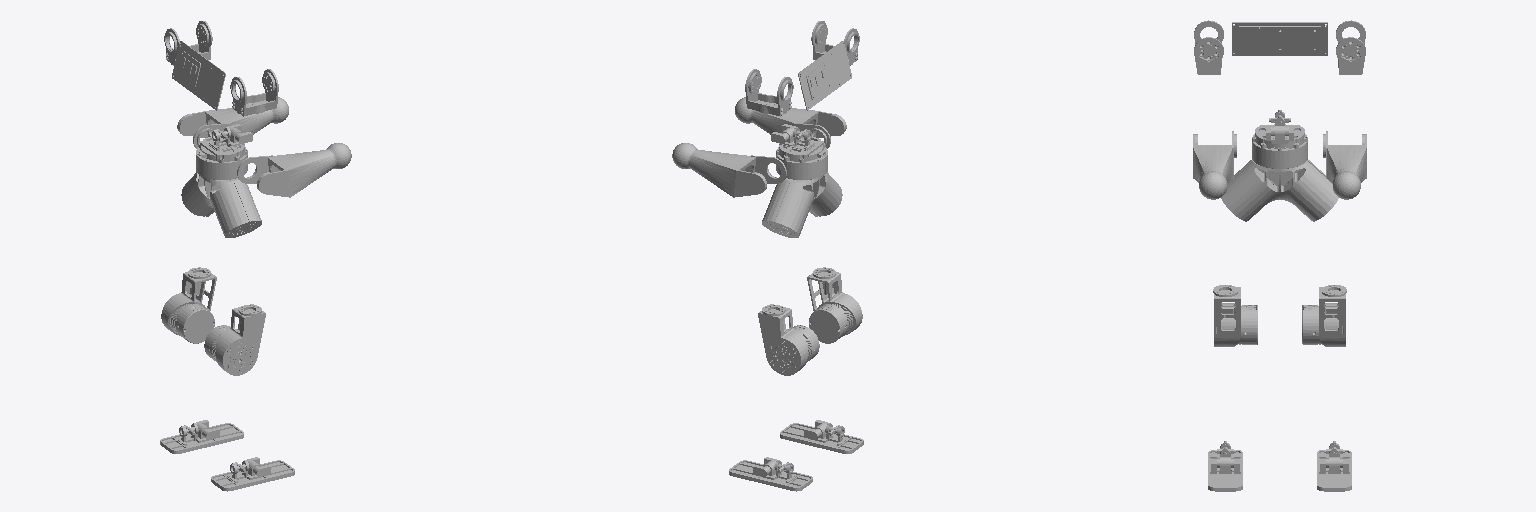
--- Facts derived from the render (not from the file) ---
The picture shows the robot from 3 angles, left to right: view 1: azimuth 30°, elevation 25°; view 2: azimuth 150°, elevation 25°; view 3: azimuth 270°, elevation 25°; orthographic projection.
Robot: h780a_asm.SLDASM — 27 links, 26 joints (23 revolute, 2 fixed, 1 floating); root link world; default pose: all joints at 0.
Links seen in each view (by area): view 1: right_elbow_pitch_link, base_link, right_hip_yaw_link, left_hip_yaw_link, waist_yaw_link, left_elbow_pitch_link, imu_link, left_ankle_roll_link, right_ankle_roll_link, right_shoulder_roll_link, left_shoulder_roll_link; view 2: left_elbow_pitch_link, base_link, left_hip_yaw_link, right_hip_yaw_link, waist_yaw_link, right_elbow_pitch_link, imu_link, right_ankle_roll_link, left_ankle_roll_link, left_shoulder_roll_link, right_shoulder_roll_link; view 3: base_link, imu_link, waist_yaw_link, right_hip_yaw_link, left_hip_yaw_link, left_elbow_pitch_link, right_elbow_pitch_link, left_ankle_roll_link, right_ankle_roll_link, left_shoulder_roll_link, right_shoulder_roll_link.
Link boxes in pixels (box(x1,y1,x2,y2)): right_elbow_pitch_link: box(237, 143, 351, 197); base_link: box(181, 172, 261, 237); right_hip_yaw_link: box(204, 304, 265, 375); left_hip_yaw_link: box(161, 267, 216, 343); waist_yaw_link: box(196, 124, 252, 179); left_elbow_pitch_link: box(177, 97, 288, 148); imu_link: box(172, 41, 225, 110); left_ankle_roll_link: box(160, 420, 243, 453); right_ankle_roll_link: box(211, 457, 294, 491); right_shoulder_roll_link: box(230, 69, 278, 116); left_shoulder_roll_link: box(164, 21, 212, 65); left_elbow_pitch_link: box(672, 143, 786, 197); base_link: box(762, 172, 842, 237); left_hip_yaw_link: box(758, 304, 819, 375); right_hip_yaw_link: box(807, 267, 862, 343); waist_yaw_link: box(771, 124, 827, 179); right_elbow_pitch_link: box(735, 97, 846, 148); imu_link: box(798, 41, 851, 110); right_ankle_roll_link: box(780, 420, 863, 453); left_ankle_roll_link: box(729, 457, 812, 491); left_shoulder_roll_link: box(745, 69, 793, 116); right_shoulder_roll_link: box(811, 21, 859, 65); base_link: box(1221, 160, 1338, 221); imu_link: box(1232, 22, 1327, 55); waist_yaw_link: box(1252, 110, 1307, 168); right_hip_yaw_link: box(1213, 285, 1257, 346); left_hip_yaw_link: box(1302, 285, 1346, 346); left_elbow_pitch_link: box(1323, 131, 1366, 199); right_elbow_pitch_link: box(1193, 131, 1236, 199); left_ankle_roll_link: box(1317, 441, 1351, 491); right_ankle_roll_link: box(1208, 441, 1242, 491); left_shoulder_roll_link: box(1336, 20, 1365, 74); right_shoulder_roll_link: box(1194, 20, 1223, 74).
Size in the robot's own frame: 0.2196 by 0.244 by 0.678 metres.
Meshes: 26 distinct files referenced, 14 mesh visuals loaded (14 binary STL); not drawn: 12 (reference not matched to a file when rendering).

The robot description file, URDF, robot "h780a_asm.SLDASM":
<?xml version="1.0" encoding="utf-8"?>
<!-- This URDF was automatically created by SolidWorks to URDF Exporter! Originally created by Stephen Brawner ([email redacted]) 
     Commit Version: 1.6.0-4-g7f85cfe  Build Version: 1.6.7995.38578
     For more information, please see http://wiki.ros.org/sw_urdf_exporter -->
<robot
  name="h780a_asm.SLDASM">
  <mujoco>
    <compiler meshdir="meshes" discardvisual="false"/>
  </mujoco>

  <!-- [CAUTION] uncomment when convert to mujoco -->
  <link name="world"></link>
  <joint name="floating_base_joint" type="floating">
    <parent link="world"/>
    <child link="base_link"/>
  </joint>
  <link
    name="base_link">
    <inertial>
      <origin
        xyz="-0.000608839400159668 -2.48606142651706E-05 0.0185366559303592"
        rpy="0 0 0" />
      <mass
        value="1.01914368" />
      <inertia
        ixx="0.00255038"
        ixy="0.00000039"
        ixz="0.00001327"
        iyy="0.00071478"
        iyz="0.00000166"
        izz="0.00236144" />
    </inertial>
    <visual>
      <origin
        xyz="0 0 0"
        rpy="0 0 0" />
      <geometry>
        <mesh
          filename="meshes/base_link.STL" />
      </geometry>
      <material
        name="">
        <color
          rgba="0.752941176470588 0.752941176470588 0.752941176470588 1" />
      </material>
    </visual>
    <collision>
      <origin
        xyz="0 0 0"
        rpy="0 0 0" />
      <geometry>
        <mesh
          filename="meshes/base_link.STL" />
      </geometry>
    </collision>
  </link>
  <link
    name="left_hip_pitch_link">
    <inertial>
      <origin
        xyz="-0.00367018673699777 0.0303085638249689 -0.014826132332809"
        rpy="0 0 0" />
      <mass
        value="0.37173446" />
      <inertia
        ixx="0.00022549"
        ixy="-0.00000031"
        ixz="-0.00000415"
        iyy="0.00023463"
        iyz="0.00000067"
        izz="0.00022051" />
    </inertial>
    <visual>
      <origin
        xyz="0 0 0"
        rpy="0 0 0" />
      <geometry>
        <mesh
          filename="meshes/left_hip_pitch_link.STL" />
      </geometry>
      <material
        name="">
        <color
          rgba="0.752941176470588 0.752941176470588 0.752941176470588 1" />
      </material>
    </visual>
    <collision>
      <origin
        xyz="0 0 0"
        rpy="0 0 0" />
      <geometry>
        <mesh
          filename="meshes/left_hip_pitch_link.STL" />
      </geometry>
    </collision>
  </link>
  <joint
    name="left_hip_pitch_joint"
    type="revolute">
    <origin
      xyz="0 0.064627 -0.009421"
      rpy="-0.7854 0 0" />
    <parent
      link="base_link" />
    <child
      link="left_hip_pitch_link" />
    <axis
      xyz="0 1 0" />
    <limit
      lower="-2.5307"
      upper="2.8797"
      effort="34"
      velocity="8.6917" />
  </joint>
  <link
    name="left_hip_roll_link">
    <inertial>
      <origin
        xyz="-0.00102397487211744 0.00036482482680926 -0.0522763821229738"
        rpy="0 0 0" />
      <mass
        value="0.40622809" />
      <inertia
        ixx="0.00044245"
        ixy="0.00000046"
        ixz="-0.00005459"
        iyy="0.00045225"
        iyz="0.00000242"
        izz="0.00022192" />
    </inertial>
    <visual>
      <origin
        xyz="0 0 0"
        rpy="0 0 0" />
      <geometry>
        <mesh
          filename="meshes/left_hip_roll_link.STL" />
      </geometry>
      <material
        name="">
        <color
          rgba="0.752941176470588 0.752941176470588 0.752941176470588 1" />
      </material>
    </visual>
    <collision>
      <origin
        xyz="0 0 0"
        rpy="0 0 0" />
      <geometry>
        <mesh
          filename="meshes/left_hip_roll_link.STL" />
      </geometry>
    </collision>
  </link>
  <joint
    name="left_hip_roll_joint"
    type="revolute">
    <origin
      xyz="0.014 0.0325 -0.016417"
      rpy="0.7854 0 0" />
    <parent
      link="left_hip_pitch_link" />
    <child
      link="left_hip_roll_link" />
    <axis
      xyz="1 0 0" />
    <limit
      lower="-2.3561"
      upper="1.1344"
      effort="14"
      velocity="27.227" />
  </joint>
  <link
    name="left_hip_yaw_link">
    <inertial>
      <origin
        xyz="-0.0202458881888117 -0.00554365759553843 -0.0552408872968055"
        rpy="0 0 0" />
      <mass
        value="0.45505975" />
      <inertia
        ixx="0.00036750"
        ixy="-0.00001161"
        ixz="-0.00004387"
        iyy="0.00033281"
        iyz="-0.00001265"
        izz="0.00030134" />
    </inertial>
    <visual>
      <origin
        xyz="0 0 0"
        rpy="0 0 0" />
      <geometry>
        <mesh
          filename="meshes/left_hip_yaw_link.STL" />
      </geometry>
      <material
        name="">
        <color
          rgba="0.752941176470588 0.752941176470588 0.752941176470588 1" />
      </material>
    </visual>
    <collision>
      <origin
        xyz="0 0 0"
        rpy="0 0 0" />
      <geometry>
        <mesh
          filename="meshes/left_hip_yaw_link.STL" />
      </geometry>
    </collision>
  </link>
  <joint
    name="left_hip_yaw_joint"
    type="revolute">
    <origin
      xyz="-0.009 0 -0.094"
      rpy="0 0 0" />
    <parent
      link="left_hip_roll_link" />
    <child
      link="left_hip_yaw_link" />
    <axis
      xyz="0 0 1" />
    <limit
      lower="-2.7576"
      upper="2.7576"
      effort="14"
      velocity="27.2271" />
  </joint>
  <link
    name="left_knee_pitch_link">
    <inertial>
      <origin
        xyz="0.0106900580465391 -0.0131440176539647 -0.0900758071495541"
        rpy="0 0 0" />
      <mass
        value="0.93760765" />
      <inertia
        ixx="0.00202162"
        ixy="0.00000466"
        ixz="0.00003683"
        iyy="0.00197911"
        iyz="-0.00010931"
        izz="0.00058500" />
    </inertial>
    <visual>
      <origin
        xyz="0 0 0"
        rpy="0 0 0" />
      <geometry>
        <mesh
          filename="meshes/left_knee_pitch_link.STL" />
      </geometry>
      <material
        name="">
        <color
          rgba="0.752941176470588 0.752941176470588 0.752941176470588 1" />
      </material>
    </visual>
    <collision>
      <origin
        xyz="0 0 0"
        rpy="0 0 0" />
      <geometry>
        <mesh
          filename="meshes/left_knee_pitch_link.STL" />
      </geometry>
    </collision>
  </link>
  <joint
    name="left_knee_pitch_joint"
    type="revolute">
    <origin
      xyz="-0.026 0.016 -0.065783"
      rpy="0 0 0" />
    <parent
      link="left_hip_yaw_link" />
    <child
      link="left_knee_pitch_link" />
    <axis
      xyz="0 1 0" />
    <limit
      lower="-0.0872"
      upper="2.6703"
      effort="34"
      velocity="8.6917" />
  </joint>
  <link
    name="left_ankle_pitch_link">
    <inertial>
      <origin
        xyz="0 6.98468129727015E-06 -3.46944695195361E-18"
        rpy="0 0 0" />
      <mass
        value="0.01165757" />
      <inertia
        ixx="0.00000052"
        ixy="0"
        ixz="0"
        iyy="0.00000025"
        iyz="0"
        izz="0.00000070" />
    </inertial>
    <visual>
      <origin
        xyz="0 0 0"
        rpy="0 0 0" />
      <geometry>
        <mesh
          filename="meshes/left_ankle_pitch_link.STL" />
      </geometry>
      <material
        name="">
        <color
          rgba="0.752941176470588 0.752941176470588 0.752941176470588 1" />
      </material>
    </visual>
    <collision>
      <origin
        xyz="0 0 0"
        rpy="0 0 0" />
      <geometry>
        <mesh
          filename="meshes/left_ankle_pitch_link.STL" />
      </geometry>
    </collision>
  </link>
  <joint
    name="left_ankle_pitch_joint"
    type="revolute">
    <origin
      xyz="0.0085 -0.016 -0.191"
      rpy="0 0 0" />
    <parent
      link="left_knee_pitch_link" />
    <child
      link="left_ankle_pitch_link" />
    <axis
      xyz="0 1 0" />
    <limit
      lower="-0.8726"
      upper="0.5235"
      effort="14"
      velocity="27.227" />
  </joint>
  <link
    name="left_ankle_roll_link">
    <inertial>
      <origin
        xyz="0.0119807840929058 5.04249419996938E-13 -0.0128798503716553"
        rpy="0 0 0" />
      <mass
        value="0.16656846" />
      <inertia
        ixx=" 0.00003757"
        ixy="-0.00000000"
        ixz="-0.00000090"
        iyy="0.00012095"
        iyz="-0.00000000"
        izz="0.00014065" />
    </inertial>
    <visual>
      <origin
        xyz="0 0 0"
        rpy="0 0 0" />
      <geometry>
        <mesh
          filename="meshes/left_ankle_roll_link.STL" />
      </geometry>
      <material
        name="">
        <color
          rgba="0.752941176470588 0.752941176470588 0.752941176470588 1" />
      </material>
    </visual>
    <collision>
      <origin
        xyz="0 0 0"
        rpy="0 0 0" />
      <geometry>
        <mesh
          filename="meshes/left_ankle_roll_link.STL" />
      </geometry>
    </collision>
  </link>
  <joint
    name="left_ankle_roll_joint"
    type="revolute">
    <origin
      xyz="0.0113 0 0"
      rpy="0 0 0" />
    <parent
      link="left_ankle_pitch_link" />
    <child
      link="left_ankle_roll_link" />
    <axis
      xyz="1 0 0" />
    <limit
      lower="-0.2617"
      upper="0.2617"
      effort="14"
      velocity="27.227" />
  </joint>
  <link
    name="right_hip_pitch_link">
    <inertial>
      <origin
        xyz="-0.00334812599759471 -0.0303139985141044 -0.014840625732606"
        rpy="0 0 0" />
      <mass
        value="0.37172276" />
      <inertia
        ixx="0.00022550"
        ixy="0.00000024"
        ixz="-0.00000379"
        iyy="0.00023371"
        iyz="-0.00000056"
        izz="0.00021979" />
    </inertial>
    <visual>
      <origin
        xyz="0 0 0"
        rpy="0 0 0" />
      <geometry>
        <mesh
          filename="meshes/right_hip_pitch_link.STL" />
      </geometry>
      <material
        name="">
        <color
          rgba="0.752941176470588 0.752941176470588 0.752941176470588 1" />
      </material>
    </visual>
    <collision>
      <origin
        xyz="0 0 0"
        rpy="0 0 0" />
      <geometry>
        <mesh
          filename="meshes/right_hip_pitch_link.STL" />
      </geometry>
    </collision>
  </link>
  <joint
    name="right_hip_pitch_joint"
    type="revolute">
    <origin
      xyz="0 -0.064627 -0.009421"
      rpy="0.7854 0 0" />
    <parent
      link="base_link" />
    <child
      link="right_hip_pitch_link" />
    <axis
      xyz="0 1 0" />
    <limit
      lower="-2.5307"
      upper="2.8797"
      effort="34"
      velocity="8.6917" />
  </joint>
  <link
    name="right_hip_roll_link">
    <inertial>
      <origin
        xyz="-0.00116006196486454 -0.00051473766608455 -0.0522852931951348"
        rpy="0 0 0" />
      <mass
        value="0.40589275" />
      <inertia
        ixx="0.00044379"
        ixy="0.00000066"
        ixz="-0.00005267"
        iyy=" 0.00044889"
        iyz="-0.00000321"
        izz="0.00022004" />
    </inertial>
    <visual>
      <origin
        xyz="0 0 0"
        rpy="0 0 0" />
      <geometry>
        <mesh
          filename="meshes/right_hip_roll_link.STL" />
      </geometry>
      <material
        name="">
        <color
          rgba="0.752941176470588 0.752941176470588 0.752941176470588 1" />
      </material>
    </visual>
    <collision>
      <origin
        xyz="0 0 0"
        rpy="0 0 0" />
      <geometry>
        <mesh
          filename="meshes/right_hip_roll_link.STL" />
      </geometry>
    </collision>
  </link>
  <joint
    name="right_hip_roll_joint"
    type="revolute">
    <origin
      xyz="0.0145 -0.0325 -0.016417"
      rpy="-0.7854 0 0" />
    <parent
      link="right_hip_pitch_link" />
    <child
      link="right_hip_roll_link" />
    <axis
      xyz="1 0 0" />
    <limit
      lower="-2.3561"
      upper="1.1344"
      effort="14"
      velocity="27.227" />
  </joint>
  <link
    name="right_hip_yaw_link">
    <inertial>
      <origin
        xyz="-0.0201578311282279 0.00554368559206414 -0.0552409620376702"
        rpy="0 0 0" />
      <mass
        value="0.45505924" />
      <inertia
        ixx="0.00036750"
        ixy="0.00001039"
        ixz="-0.00004306"
        iyy="0.00033250"
        iyz="0.00001265"
        izz="0.00030103" />
    </inertial>
    <visual>
      <origin
        xyz="0 0 0"
        rpy="0 0 0" />
      <geometry>
        <mesh
          filename="meshes/right_hip_yaw_link.STL" />
      </geometry>
      <material
        name="">
        <color
          rgba="0.752941176470588 0.752941176470588 0.752941176470588 1" />
      </material>
    </visual>
    <collision>
      <origin
        xyz="0 0 0"
        rpy="0 0 0" />
      <geometry>
        <mesh
          filename="meshes/right_hip_yaw_link.STL" />
      </geometry>
    </collision>
  </link>
  <joint
    name="right_hip_yaw_joint"
    type="revolute">
    <origin
      xyz="-0.0095 0 -0.094"
      rpy="0 0 0" />
    <parent
      link="right_hip_roll_link" />
    <child
      link="right_hip_yaw_link" />
    <axis
      xyz="0 0 1" />
    <limit
      lower="-2.7576"
      upper="2.7576"
      effort="14"
      velocity="27.227" />
  </joint>
  <link
    name="right_knee_pitch_link">
    <inertial>
      <origin
        xyz="0.0106899921397301 0.0131541025640996 -0.0900760730560312"
        rpy="0 0 0" />
      <mass
        value="0.93760852" />
      <inertia
        ixx="0.00202167"
        ixy="-0.00000503"
        ixz="0.00003683"
        iyy="0.00197912"
        iyz="0.00010910"
        izz="0.00058504" />
    </inertial>
    <visual>
      <origin
        xyz="0 0 0"
        rpy="0 0 0" />
      <geometry>
        <mesh
          filename="meshes/right_knee_pitch_link.STL" />
      </geometry>
      <material
        name="">
        <color
          rgba="0.752941176470588 0.752941176470588 0.752941176470588 1" />
      </material>
    </visual>
    <collision>
      <origin
        xyz="0 0 0"
        rpy="0 0 0" />
      <geometry>
        <mesh
          filename="meshes/right_knee_pitch_link.STL" />
      </geometry>
    </collision>
  </link>
  <joint
    name="right_knee_pitch_joint"
    type="revolute">
    <origin
      xyz="-0.026 -0.016 -0.065783"
      rpy="0 0 0" />
    <parent
      link="right_hip_yaw_link" />
    <child
      link="right_knee_pitch_link" />
    <axis
      xyz="0 1 0" />
    <limit
      lower="-0.0872"
      upper="2.6703"
      effort="34"
      velocity="8.6917" />
  </joint>
  <link
    name="right_ankle_pitch_link">
    <inertial>
      <origin
        xyz="0 -6.98468129727015E-06 -3.46944695195361E-18"
        rpy="0 0 0" />
      <mass
        value="0.01165757" />
      <inertia
        ixx="0.00000052"
        ixy="0"
        ixz="0"
        iyy="0.00000025"
        iyz="0"
        izz="0.00000070" />
    </inertial>
    <visual>
      <origin
        xyz="0 0 0"
        rpy="0 0 0" />
      <geometry>
        <mesh
          filename="meshes/right_ankle_pitch_link.STL" />
      </geometry>
      <material
        name="">
        <color
          rgba="0.752941176470588 0.752941176470588 0.752941176470588 1" />
      </material>
    </visual>
    <collision>
      <origin
        xyz="0 0 0"
        rpy="0 0 0" />
      <geometry>
        <mesh
          filename="meshes/right_ankle_pitch_link.STL" />
      </geometry>
    </collision>
  </link>
  <joint
    name="right_ankle_pitch_joint"
    type="revolute">
    <origin
      xyz="0.0085 0.016 -0.191"
      rpy="0 0 0" />
    <parent
      link="right_knee_pitch_link" />
    <child
      link="right_ankle_pitch_link" />
    <axis
      xyz="0 1 0" />
    <limit
      lower="-0.8726"
      upper="0.5235"
      effort="14"
      velocity="27.227" />
  </joint>
  <link
    name="right_ankle_roll_link">
    <inertial>
      <origin
        xyz="0.0119807840929058 5.04207786633515E-13 -0.0128798503716531"
        rpy="0 0 0" />
      <mass
        value="0.16656846" />
      <inertia
        ixx="0.00003757"
        ixy="0"
        ixz="-0.00000090"
        iyy="0.00012095"
        iyz="0"
        izz=" 0.00014065" />
    </inertial>
    <visual>
      <origin
        xyz="0 0 0"
        rpy="0 0 0" />
      <geometry>
        <mesh
          filename="meshes/right_ankle_roll_link.STL" />
      </geometry>
      <material
        name="">
        <color
          rgba="0.752941176470588 0.752941176470588 0.752941176470588 1" />
      </material>
    </visual>
    <collision>
      <origin
        xyz="0 0 0"
        rpy="0 0 0" />
      <geometry>
        <mesh
          filename="meshes/right_ankle_roll_link.STL" />
      </geometry>
    </collision>
  </link>
  <joint
    name="right_ankle_roll_joint"
    type="revolute">
    <origin
      xyz="0.0113 0 0"
      rpy="0 0 0" />
    <parent
      link="right_ankle_pitch_link" />
    <child
      link="right_ankle_roll_link" />
    <axis
      xyz="1 0 0" />
    <limit
      lower="-0.2617"
      upper="0.2617"
      effort="14"
      velocity="27.227" />
  </joint>
  <link
    name="waist_yaw_link">
    <inertial>
      <origin
        xyz="0.00874371351982963 7.38908869579253E-06 0.0347263914958253"
        rpy="0 0 0" />
      <mass
        value="0.49591418" />
      <inertia
        ixx="0.00033819"
        ixy="-0.00000009"
        ixz="-0.00006265"
        iyy="0.00038896"
        iyz="-0.00000012"
        izz="0.00040888" />
    </inertial>
    <visual>
      <origin
        xyz="0 0 0"
        rpy="0 0 0" />
      <geometry>
        <mesh
          filename="meshes/waist_yaw_link.STL" />
      </geometry>
      <material
        name="">
        <color
          rgba="0.752941176470588 0.752941176470588 0.752941176470588 1" />
      </material>
    </visual>
    <collision>
      <origin
        xyz="0 0 0"
        rpy="0 0 0" />
      <geometry>
        <mesh
          filename="meshes/waist_yaw_link.STL" />
      </geometry>
    </collision>
  </link>
  <joint
    name="waist_yaw_joint"
    type="revolute">
    <origin
      xyz="0 0 0.059956"
      rpy="0 0 0" />
    <parent
      link="base_link" />
    <child
      link="waist_yaw_link" />
    <axis
      xyz="0 0 1" />
    <limit
      lower="-2.6179"
      upper="2.6179"
      effort="17"
      velocity="28.798" />
  </joint>
  <link
    name="waist_roll_link">
    <inertial>
      <origin
        xyz="-0.0113 6.98468129726652E-06 0"
        rpy="0 0 0" />
      <mass
        value="0.01165757" />
      <inertia
        ixx="0.00000052"
        ixy="0"
        ixz="0"
        iyy="0.00000025"
        iyz="0"
        izz="0.00000070" />
    </inertial>
    <visual>
      <origin
        xyz="0 0 0"
        rpy="0 0 0" />
      <geometry>
        <mesh
          filename="meshes/waist_roll_link.STL" />
      </geometry>
      <material
        name="">
        <color
          rgba="0.752941176470588 0.752941176470588 0.752941176470588 1" />
      </material>
    </visual>
    <collision>
      <origin
        xyz="0 0 0"
        rpy="0 0 0" />
      <geometry>
        <mesh
          filename="meshes/waist_roll_link.STL" />
      </geometry>
    </collision>
  </link>
  <joint
    name="waist_roll_joint"
    type="revolute">
    <origin
      xyz="0.0113 0 0.0615"
      rpy="0 0 0" />
    <parent
      link="waist_yaw_link" />
    <child
      link="waist_roll_link" />
    <axis
      xyz="1 0 0" />
    <limit
      lower="-0.7853"
      upper="0.7853"
      effort="14"
      velocity="27.227" />
  </joint>
  <link
    name="waist_pitch_link">
    <inertial>
      <origin
        xyz="0.00973385887256413 3.54184590764736E-05 0.0857754438416116"
        rpy="0 0 0" />
      <mass
        value="2.24196344" />
      <inertia
        ixx="0.00742123"
        ixy="0.00000587"
        ixz="-0.00039888"
        iyy="0.00478425"
        iyz="0.00000968"
        izz="0.00593152" />
    </inertial>
    <visual>
      <origin
        xyz="0 0 0"
        rpy="0 0 0" />
      <geometry>
        <mesh
          filename="meshes/waist_pitch_link.STL" />
      </geometry>
      <material
        name="">
        <color
          rgba="0.752941176470588 0.752941176470588 0.752941176470588 1" />
      </material>
    </visual>
    <collision>
      <origin
        xyz="0 0 0"
        rpy="0 0 0" />
      <geometry>
        <mesh
          filename="meshes/waist_pitch_link.STL" />
      </geometry>
    </collision>
  </link>
  <joint
    name="waist_pitch_joint"
    type="revolute">
    <origin
      xyz="-0.0113 0 0"
      rpy="0 0 0" />
    <parent
      link="waist_roll_link" />
    <child
      link="waist_pitch_link" />
    <axis
      xyz="0 1 0" />
    <limit
      lower="-0.5235"
      upper="0.5235"
      effort="14"
      velocity="27.227" />
  </joint>
  <link
    name="imu_link">
    <inertial>
      <origin
        xyz="0.00417470448182465 -0.0049053748844991 -0.00851546070388176"
        rpy="0 0 0" />
      <mass
        value="0.08627746" />
      <inertia
        ixx="0.00012477"
        ixy="0.00000101"
        ixz="-0.00000491"
        iyy="0.00002043"
        iyz="-0.00000046"
        izz="0.00010754" />
    </inertial>
    <visual>
      <origin
        xyz="0 0 0"
        rpy="0 0 0" />
      <geometry>
        <mesh
          filename="meshes/imu_link.STL" />
      </geometry>
      <material
        name="">
        <color
          rgba="0.752941176470588 0.752941176470588 0.752941176470588 1" />
      </material>
    </visual>
    <collision>
      <origin
        xyz="0 0 0"
        rpy="0 0 0" />
      <geometry>
        <mesh
          filename="meshes/imu_link.STL" />
      </geometry>
    </collision>
  </link>
  <joint
    name="imu_joint"
    type="fixed">
    <origin
      xyz="-0.043483 0.00815 0.11488"
      rpy="0 0 0" />
    <parent
      link="waist_pitch_link" />
    <child
      link="imu_link" />
    <axis
      xyz="0 0 0" />
  </joint>
  <link
    name="head_link">
    <inertial>
      <origin
        xyz="0.00317975104625335 3.53716959748506E-06 0.0575640557329804"
        rpy="0 0 0" />
      <mass
        value="0.07534940" />
      <inertia
        ixx="0.00009288"
        ixy="0"
        ixz="-0.00000292"
        iyy="0.00007927"
        iyz="0"
        izz="0.00006791" />
    </inertial>
    <visual>
      <origin
        xyz="0 0 0"
        rpy="0 0 0" />
      <geometry>
        <mesh
          filename="meshes/head_link.STL" />
      </geometry>
      <material
        name="">
        <color
          rgba="0.752941176470588 0.752941176470588 0.752941176470588 1" />
      </material>
    </visual>
    <collision>
      <origin
        xyz="0 0 0"
        rpy="0 0 0" />
      <geometry>
        <mesh
          filename="meshes/head_link.STL" />
      </geometry>
    </collision>
  </link>
  <joint
    name="head_joint"
    type="fixed">
    <origin
      xyz="0 0 0.16075"
      rpy="0 0 0" />
    <parent
      link="waist_pitch_link" />
    <child
      link="head_link" />
    <axis
      xyz="0 0 0" />
  </joint>
  <link
    name="left_shoulder_pitch_link">
    <inertial>
      <origin
        xyz="-0.000804057631007502 0.0256654529559015 -2.13936679138715E-06"
        rpy="0 0 0" />
      <mass
        value="0.22556216" />
      <inertia
        ixx="0.00008458"
        ixy="-0.00000111"
        ixz="-0.00000002"
        iyy="0.00010567"
        iyz="0.00000004"
        izz="0.00010965" />
    </inertial>
    <visual>
      <origin
        xyz="0 0 0"
        rpy="0 0 0" />
      <geometry>
        <mesh
          filename="meshes/left_shoulder_pitch_link.STL" />
      </geometry>
      <material
        name="">
        <color
          rgba="0.752941176470588 0.752941176470588 0.752941176470588 1" />
      </material>
    </visual>
    <collision>
      <origin
        xyz="0 0 0"
        rpy="0 0 0" />
      <geometry>
        <mesh
          filename="meshes/left_shoulder_pitch_link.STL" />
      </geometry>
    </collision>
  </link>
  <joint
    name="left_shoulder_pitch_joint"
    type="revolute">
    <origin
      xyz="0 0.07 0.11875"
      rpy="0 0 0" />
    <parent
      link="waist_pitch_link" />
    <child
      link="left_shoulder_pitch_link" />
    <axis
      xyz="0 1 0" />
    <limit
      lower="-3.0892"
      upper="2.6703"
      effort="14"
      velocity="27.227" />
  </joint>
  <link
    name="left_shoulder_roll_link">
    <inertial>
      <origin
        xyz="-0.02543084211996 0.000337234455000127 -0.0195712967086616"
        rpy="0 0 0" />
      <mass
        value="0.02622715" />
      <inertia
        ixx="0.00001054"
        ixy="0.00000009"
        ixz="-0.00000129"
        iyy="0.00002089"
        iyz="0.00000001"
        izz="0.00001746" />
    </inertial>
    <visual>
      <origin
        xyz="0 0 0"
        rpy="0 0 0" />
      <geometry>
        <mesh
          filename="meshes/left_shoulder_roll_link.STL" />
      </geometry>
      <material
        name="">
        <color
          rgba="0.752941176470588 0.752941176470588 0.752941176470588 1" />
      </material>
    </visual>
    <collision>
      <origin
        xyz="0 0 0"
        rpy="0 0 0" />
      <geometry>
        <mesh
          filename="meshes/left_shoulder_roll_link.STL" />
      </geometry>
    </collision>
  </link>
  <joint
    name="left_shoulder_roll_joint"
    type="revolute">
    <origin
      xyz="0.022 0.029 0"
      rpy="0 0 0" />
    <parent
      link="left_shoulder_pitch_link" />
    <child
      link="left_shoulder_roll_link" />
    <axis
      xyz="1 0 0" />
    <limit
      lower="-3.3684"
      upper="0.2268"
      effort="5.5"
      velocity="10.472" />
  </joint>
  <link
    name="left_shoulder_yaw_link">
    <inertial>
      <origin
        xyz="0.00444472348429583 -0.00278494229066625 -0.0775977480541095"
        rpy="0 0 0" />
      <mass
        value="0.44929259" />
      <inertia
        ixx="0.00120051"
        ixy="0.00000543"
        ixz="0.00009934"
        iyy="0.00119165"
        iyz="-0.00004262"
        izz="0.00020437" />
    </inertial>
    <visual>
      <origin
        xyz="0 0 0"
        rpy="0 0 0" />
      <geometry>
        <mesh
          filename="meshes/left_shoulder_yaw_link.STL" />
      </geometry>
      <material
        name="">
        <color
          rgba="0.752941176470588 0.752941176470588 0.752941176470588 1" />
      </material>
    </visual>
    <collision>
      <origin
        xyz="0 0 0"
        rpy="0 0 0" />
      <geometry>
        <mesh
          filename="meshes/left_shoulder_yaw_link.STL" />
      </geometry>
    </collision>
  </link>
  <joint
    name="left_shoulder_yaw_joint"
    type="revolute">
    <origin
      xyz="-0.022 0 -0.037"
      rpy="0 0 0" />
    <parent
      link="left_shoulder_roll_link" />
    <child
      link="left_shoulder_yaw_link" />
    <axis
      xyz="0 0 1" />
    <limit
      lower="-2.6179"
      upper="2.6179"
      effort="5.5"
      velocity="10.472" />
  </joint>
  <link
    name="left_elbow_pitch_link">
    <inertial>
      <origin
        xyz="0.063874855183702 -0.02254503223874 -0.00288865176867181"
        rpy="0 0 0" />
      <mass
        value="0.05739494" />
      <inertia
        ixx="0.00003419"
        ixy="-0.00000082"
        ixz="-0.00000505"
        iyy="0.00013282"
        iyz="-0.00000017"
        izz="0.00014380" />
    </inertial>
    <visual>
      <origin
        xyz="0 0 0"
        rpy="0 0 0" />
      <geometry>
        <mesh
          filename="meshes/left_elbow_pitch_link.STL" />
      </geometry>
      <material
        name="">
        <color
          rgba="0.752941176470588 0.752941176470588 0.752941176470588 1" />
      </material>
    </visual>
    <collision>
      <origin
        xyz="0 0 0"
        rpy="0 0 0" />
      <geometry>
        <mesh
          filename="meshes/left_elbow_pitch_link.STL" />
      </geometry>
    </collision>
  </link>
  <joint
    name="left_elbow_pitch_joint"
    type="revolute">
    <origin
      xyz="0.01 0.016 -0.117"
      rpy="0 0 0" />
    <parent
      link="left_shoulder_yaw_link" />
    <child
      link="left_elbow_pitch_link" />
    <axis
      xyz="0 1 0" />
    <limit
      lower="-0.9599"
      upper="2.0943"
      effort="5.5"
      velocity="10.472" />
  </joint>
  <link
    name="right_shoulder_pitch_link">
    <inertial>
      <origin
        xyz="-0.000748599315728274 -0.0257586128273268 8.77658581344143E-05"
        rpy="0 0 0" />
      <mass
        value="0.22714509" />
      <inertia
        ixx="0.00008538"
        ixy="0.00000077"
        ixz="0.00000041"
        iyy="0.00010661"
        iyz="0"
        izz="0.00011037" />
    </inertial>
    <visual>
      <origin
        xyz="0 0 0"
        rpy="0 0 0" />
      <geometry>
        <mesh
          filename="meshes/right_shoulder_pitch_link.STL" />
      </geometry>
      <material
        name="">
        <color
          rgba="0.752941176470588 0.752941176470588 0.752941176470588 1" />
      </material>
    </visual>
    <collision>
      <origin
        xyz="0 0 0"
        rpy="0 0 0" />
      <geometry>
        <mesh
          filename="meshes/right_shoulder_pitch_link.STL" />
      </geometry>
    </collision>
  </link>
  <joint
    name="right_shoulder_pitch_joint"
    type="revolute">
    <origin
      xyz="0 -0.07 0.11875"
      rpy="0 0 0" />
    <parent
      link="waist_pitch_link" />
    <child
      link="right_shoulder_pitch_link" />
    <axis
      xyz="0 1 0" />
    <limit
      lower="-3.0892"
      upper="2.6703"
      effort="14"
      velocity="27.227" />
  </joint>
  <link
    name="right_shoulder_roll_link">
    <inertial>
      <origin
        xyz="-0.0254308400602421 -0.000337237489669892 -0.0195712956310455"
        rpy="0 0 0" />
      <mass
        value="0.02622715" />
      <inertia
        ixx="0.00001054"
        ixy="-0.00000009"
        ixz="-0.00000129"
        iyy="0.00002089"
        iyz="-0.00000001"
        izz="0.00001746" />
    </inertial>
    <visual>
      <origin
        xyz="0 0 0"
        rpy="0 0 0" />
      <geometry>
        <mesh
          filename="meshes/right_shoulder_roll_link.STL" />
      </geometry>
      <material
        name="">
        <color
          rgba="0.752941176470588 0.752941176470588 0.752941176470588 1" />
      </material>
    </visual>
    <collision>
      <origin
        xyz="0 0 0"
        rpy="0 0 0" />
      <geometry>
        <mesh
          filename="meshes/right_shoulder_roll_link.STL" />
      </geometry>
    </collision>
  </link>
  <joint
    name="right_shoulder_roll_joint"
    type="revolute">
    <origin
      xyz="0.022 -0.029 0"
      rpy="0 0 0" />
    <parent
      link="right_shoulder_pitch_link" />
    <child
      link="right_shoulder_roll_link" />
    <axis
      xyz="1 0 0" />
    <limit
      lower="-3.3684"
      upper="0.2268"
      effort="5.5"
      velocity="10.472" />
  </joint>
  <link
    name="right_shoulder_yaw_link">
    <inertial>
      <origin
        xyz="0.00438406680969485 0.00263148490841031 -0.0777683195243113"
        rpy="0 0 0" />
      <mass
        value="0.45019777" />
      <inertia
        ixx="0.00120204"
        ixy="-0.00000477"
        ixz="0.00009733"
        iyy="0.00119243"
        iyz="0.00004383"
        izz="0.00020438" />
    </inertial>
    <visual>
      <origin
        xyz="0 0 0"
        rpy="0 0 0" />
      <geometry>
        <mesh
          filename="meshes/right_shoulder_yaw_link.STL" />
      </geometry>
      <material
        name="">
        <color
          rgba="0.752941176470588 0.752941176470588 0.752941176470588 1" />
      </material>
    </visual>
    <collision>
      <origin
        xyz="0 0 0"
        rpy="0 0 0" />
      <geometry>
        <mesh
          filename="meshes/right_shoulder_yaw_link.STL" />
      </geometry>
    </collision>
  </link>
  <joint
    name="right_shoulder_yaw_joint"
    type="revolute">
    <origin
      xyz="-0.022 0 -0.037"
      rpy="0 0 0" />
    <parent
      link="right_shoulder_roll_link" />
    <child
      link="right_shoulder_yaw_link" />
    <axis
      xyz="0 0 1" />
    <limit
      lower="-2.6179"
      upper="2.6179"
      effort="5.5"
      velocity="10.472" />
  </joint>
  <link
    name="right_elbow_pitch_link">
    <inertial>
      <origin
        xyz="0.0638744705614481 0.0225451387720636 -0.00288874333252498"
        rpy="0 0 0" />
      <mass
        value="0.05739454" />
      <inertia
        ixx="0.00003419"
        ixy="0.00000082"
        ixz="-0.00000505"
        iyy="0.00013282"
        iyz="0.00000017"
        izz=" 0.00014380" />
    </inertial>
    <visual>
      <origin
        xyz="0 0 0"
        rpy="0 0 0" />
      <geometry>
        <mesh
          filename="meshes/right_elbow_pitch_link.STL" />
      </geometry>
      <material
        name="">
        <color
          rgba="0.752941176470588 0.752941176470588 0.752941176470588 1" />
      </material>
    </visual>
    <collision>
      <origin
        xyz="0 0 0"
        rpy="0 0 0" />
      <geometry>
        <mesh
          filename="meshes/right_elbow_pitch_link.STL" />
      </geometry>
    </collision>
  </link>
  <joint
    name="right_elbow_pitch_joint"
    type="revolute">
    <origin
      xyz="0.01 -0.016 -0.117"
      rpy="0 0 0" />
    <parent
      link="right_shoulder_yaw_link" />
    <child
      link="right_elbow_pitch_link" />
    <axis
      xyz="0 1 0" />
    <limit
      lower="-0.9599"
      upper="2.0943"
      effort="5.5"
      velocity="10.472" />
  </joint>
    <!-- setup scene -->
  <statistic center="1.0 0.7 1.0" extent="0.8"/>
  <visual>
    <headlight diffuse="0.6 0.6 0.6" ambient="0.1 0.1 0.1" specular="0.9 0.9 0.9"/>
    <rgba haze="0.15 0.25 0.35 1"/>
    <global azimuth="-140" elevation="-20" offwidth="2080" offheight="1170"/>
  </visual>
  <asset>
     <texture type="skybox" builtin="gradient" rgb1="1 1 1" rgb2="1 1 1" width="800" height="800"/>
    <texture type="2d" name="groundplane" builtin="checker" mark="edge" rgb1="1 1 1" rgb2="1 1 1" markrgb="0 0 0"
      width="300" height="300"/>
    <material name="groundplane" texture="groundplane" texuniform="true" texrepeat="5 5" reflectance="0"/>
    <texture type="skybox" builtin="gradient" rgb1=".4 .5 .6" rgb2="0 0 0" width="100" height="100"/>
    <texture builtin="flat" height="1278" mark="cross" markrgb="1 1 1" name="texgeom" random="0.01" rgb1="0.8 0.6 0.4" rgb2="0.8 0.6 0.4" type="cube" width="127"/>
    <texture name="texplane" builtin="checker" height="512" width="512" rgb1=".2 .3 .4" rgb2=".1 .15 .2" type="2d" />
    <material name="MatPlane" reflectance="0.5" shininess="0.01" specular="0.1" texrepeat="1 1" texture="texplane" texuniform="true" />
    <material name="geom" texture="texgeom" texuniform="true"/>
  </asset>
   <worldbody>
    <geom name="floor" size="0 0 0.01" type="plane" material="groundplane" contype="1" conaffinity="0" priority="1"
      friction="0.6" condim="3"/>

        <light diffuse=".5 .5 .5" pos="-3 -3 5" dir="3 3 -5" castshadow="true"/>

  </worldbody>
</robot>
